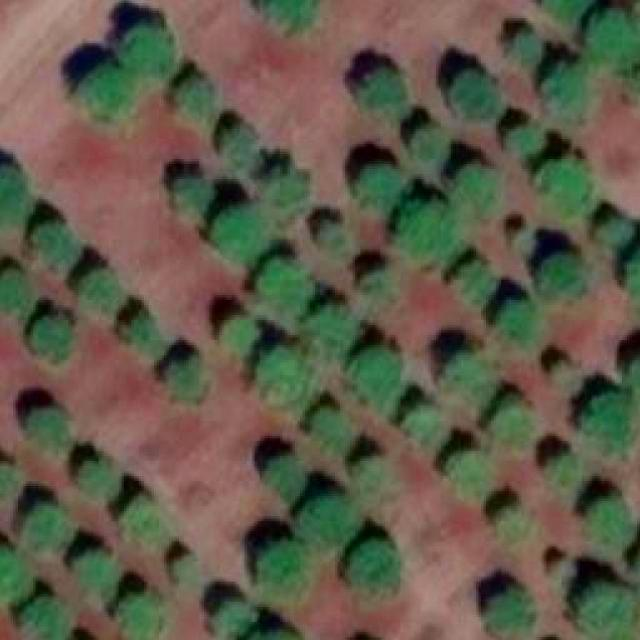Tree: (398, 202, 461, 265), (260, 348, 318, 408), (586, 13, 640, 77), (577, 580, 638, 636), (544, 157, 597, 219), (117, 26, 180, 76), (300, 495, 359, 548), (81, 65, 134, 123), (531, 244, 589, 297), (348, 546, 398, 606), (252, 265, 307, 318), (483, 585, 541, 635), (216, 206, 264, 266), (494, 298, 547, 352), (357, 151, 405, 209), (582, 391, 633, 444), (587, 495, 636, 550), (544, 62, 594, 115), (113, 591, 166, 640), (252, 541, 304, 590), (448, 71, 505, 115), (23, 504, 72, 554), (449, 167, 498, 215), (354, 345, 397, 399), (310, 303, 359, 347), (446, 449, 490, 497), (441, 353, 490, 396), (263, 0, 326, 33), (400, 403, 447, 447), (359, 68, 402, 116), (169, 177, 214, 220), (89, 270, 128, 319), (503, 28, 549, 69), (122, 501, 162, 548), (164, 363, 206, 407), (491, 400, 535, 442), (172, 88, 213, 133), (209, 597, 254, 638), (0, 544, 27, 612), (310, 403, 348, 451), (26, 403, 68, 446), (214, 124, 255, 168), (265, 172, 308, 211), (38, 228, 82, 266), (23, 602, 66, 640), (496, 506, 534, 549), (0, 273, 34, 321), (0, 167, 23, 237), (167, 556, 206, 597), (119, 313, 162, 350), (76, 554, 112, 598), (268, 459, 309, 497), (454, 257, 491, 299), (217, 315, 262, 349), (78, 464, 118, 502), (34, 323, 70, 364), (546, 449, 582, 488), (317, 217, 350, 259), (506, 124, 542, 161), (358, 272, 394, 305), (602, 214, 632, 252), (411, 126, 444, 159), (354, 453, 384, 486), (544, 0, 585, 22), (544, 354, 570, 381), (550, 554, 574, 582), (627, 252, 640, 303), (627, 350, 640, 391), (0, 461, 14, 499), (257, 637, 298, 640)
